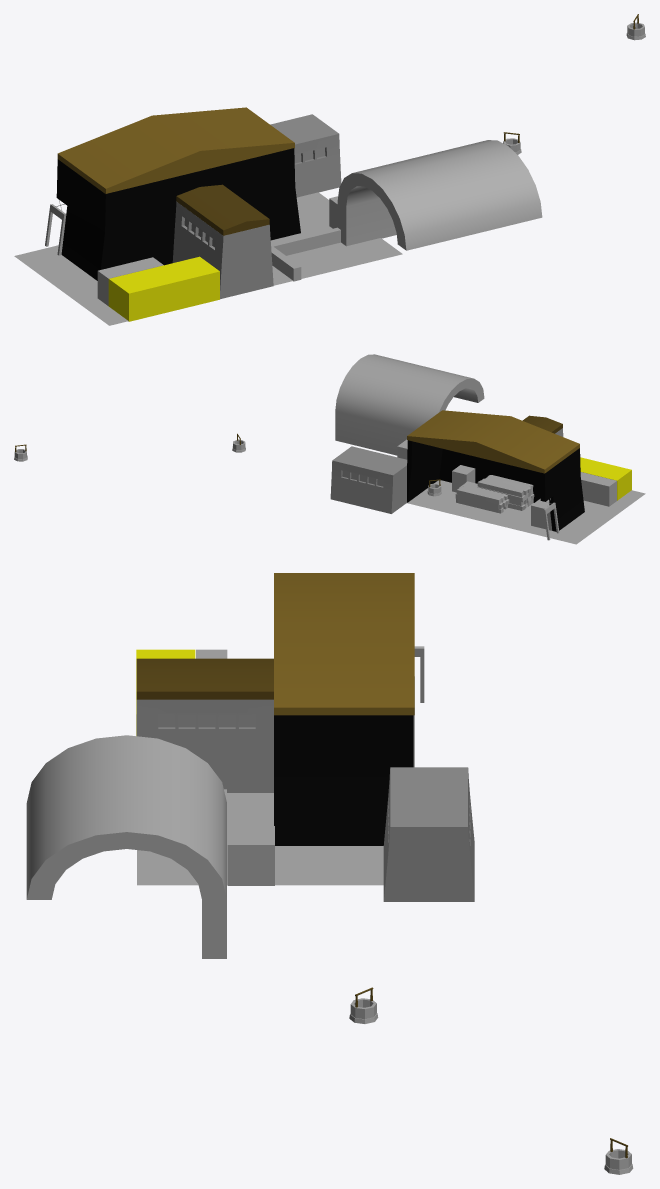
Rendered from Level03_Layout.fbx.
The picture shows the model from 3 angles, top to bottom: view 1: azimuth 30°, elevation 25°; view 2: azimuth 150°, elevation 25°; view 3: azimuth 270°, elevation 25°; orthographic projection. The views are drawn at different scales.
Parts seen in each view (by area): view 1: PigFarmRoof, Body, Roof, Ground1, pCube1, DryGrass, pCube7, pCube2, PigFarmBody, Boxes, pCube5; view 2: PigFarmRoof, Roof, Body, pCube7, Ground1, IronStrips, IronStrips1, DryGrass, Boxes, Boxes1, Boxes4, pCube2; view 3: PigFarmRoof, Roof, Body, pCube7, pCube1, Ground1, pCube2, Boxes5.
Part boxes in pixels (x1=…): PigFarmRoof: x1=337, y1=140, x2=542, y2=250; Body: x1=56, y1=148, x2=300, y2=280; Roof: x1=57, y1=107, x2=294, y2=193; Ground1: x1=14, y1=192, x2=402, y2=325; pCube1: x1=172, y1=201, x2=273, y2=299; DryGrass: x1=108, y1=256, x2=219, y2=321; pCube7: x1=270, y1=114, x2=341, y2=197; pCube2: x1=176, y1=184, x2=269, y2=235; PigFarmBody: x1=271, y1=227, x2=340, y2=281; Boxes: x1=97, y1=257, x2=163, y2=305; pCube5: x1=45, y1=199, x2=66, y2=255; PigFarmRoof: x1=335, y1=354, x2=484, y2=455; Roof: x1=407, y1=410, x2=579, y2=473; Body: x1=407, y1=440, x2=584, y2=531; pCube7: x1=330, y1=446, x2=407, y2=513; Ground1: x1=407, y1=480, x2=645, y2=544; IronStrips: x1=477, y1=475, x2=534, y2=510; IronStrips1: x1=455, y1=481, x2=509, y2=513; DryGrass: x1=580, y1=457, x2=631, y2=500; Boxes: x1=580, y1=472, x2=616, y2=506; Boxes1: x1=531, y1=498, x2=552, y2=530; Boxes4: x1=452, y1=465, x2=475, y2=492; pCube2: x1=522, y1=415, x2=562, y2=433; PigFarmRoof: x1=26, y1=735, x2=226, y2=958; Roof: x1=274, y1=573, x2=414, y2=715; Body: x1=274, y1=715, x2=413, y2=845; pCube7: x1=383, y1=767, x2=474, y2=901; pCube1: x1=136, y1=699, x2=273, y2=792; Ground1: x1=137, y1=676, x2=414, y2=885; pCube2: x1=136, y1=658, x2=273, y2=699; Boxes5: x1=227, y1=826, x2=274, y2=885.
Size of the model in its own units: 118 by 17.32 by 60.5.
